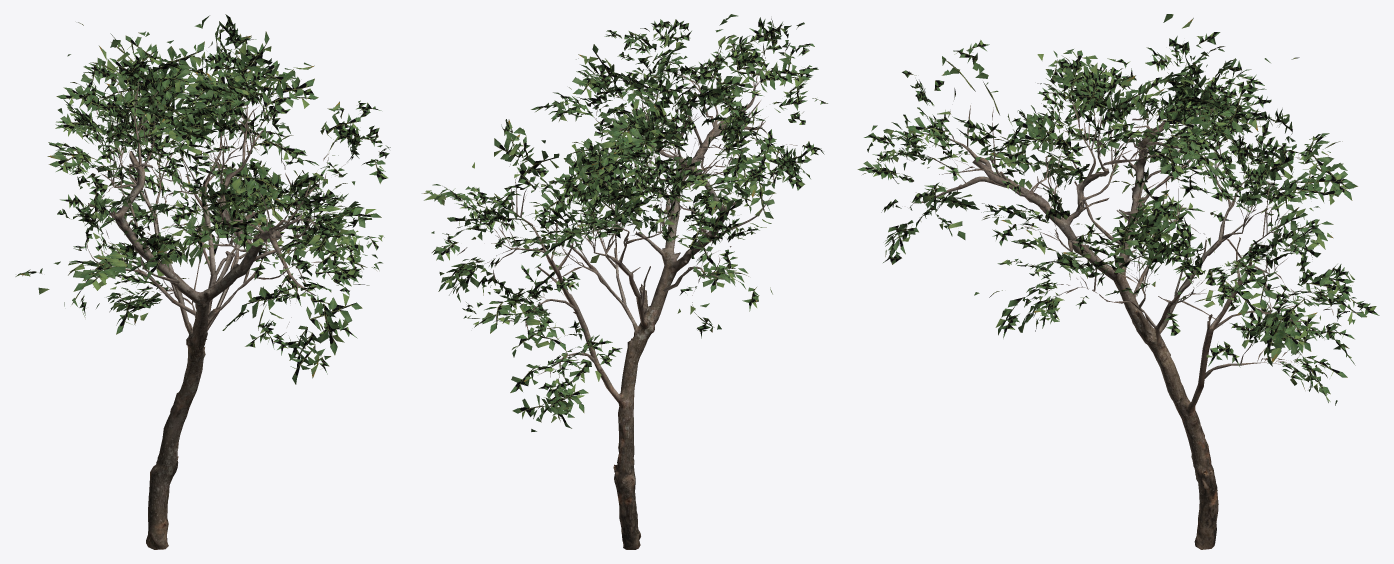
The model's file is tree_small_02.glb.
3 renders of one model, left to right at view 1: azimuth 30°, elevation 25°; view 2: azimuth 150°, elevation 25°; view 3: azimuth 270°, elevation 25°, orthographic. The views are drawn at different scales.
Bounding box in the file's own units: 2.95 × 4.55 × 4.32.
Materials: 3 (3 with a texture image).
